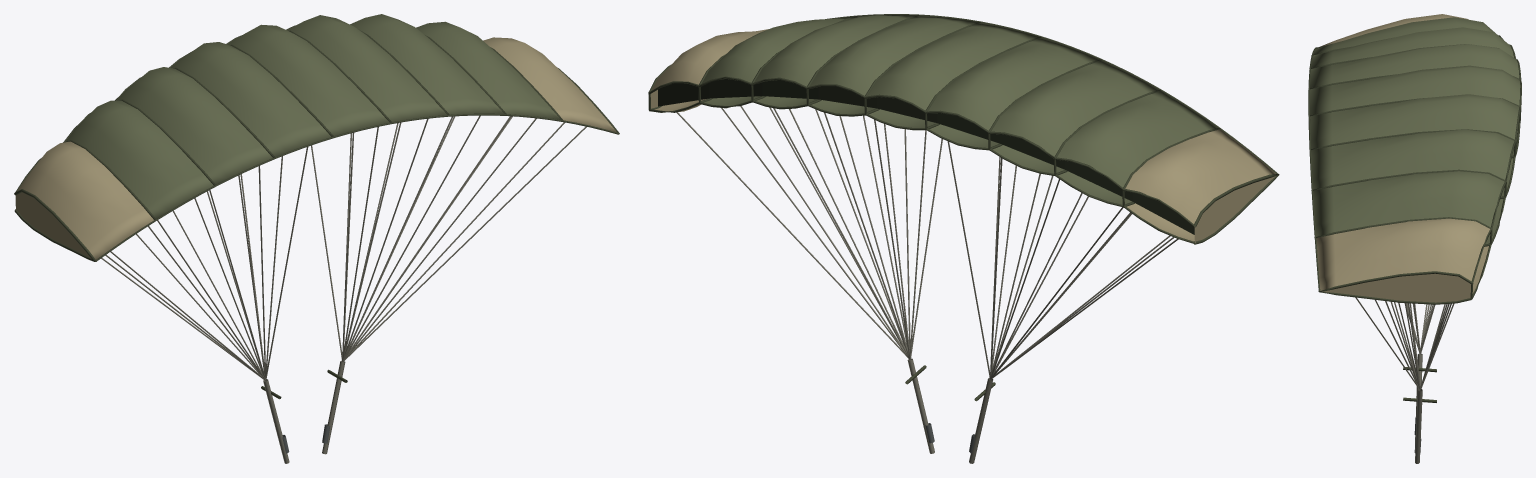
The model's file is parachute.glb.
The picture shows the model from 3 angles, left to right: view 1: azimuth 30°, elevation 25°; view 2: azimuth 150°, elevation 25°; view 3: azimuth 270°, elevation 25°; orthographic projection. The views are drawn at different scales.
Visible parts, largest first — view 1: Olive ripstop, Suspension lines, Sand ripstop, Reinforced seams; view 2: Olive ripstop, Suspension lines, Sand ripstop, Reinforced seams, Cell interiors; view 3: Olive ripstop, Sand ripstop, Reinforced seams, Suspension lines.
Part boxes in pixels (x1,y1,x2,y2): Olive ripstop: [65, 14, 560, 218]; Suspension lines: [101, 115, 586, 463]; Sand ripstop: [15, 37, 616, 259]; Reinforced seams: [14, 25, 619, 399]; Olive ripstop: [701, 15, 1218, 204]; Suspension lines: [676, 106, 1178, 463]; Sand ripstop: [650, 29, 1276, 242]; Reinforced seams: [648, 14, 1279, 401]; Cell interiors: [658, 79, 1194, 234]; Olive ripstop: [1310, 17, 1520, 244]; Sand ripstop: [1316, 14, 1490, 302]; Reinforced seams: [1308, 35, 1521, 402]; Suspension lines: [1355, 297, 1454, 463].
Size of the model in its own units: 6.33 by 4.68 by 2.35.
